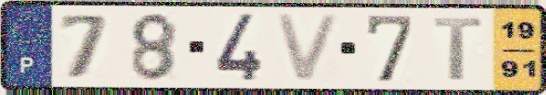4: (212, 11, 265, 84)
7: (57, 13, 113, 81), (363, 13, 415, 84)
8: (128, 11, 181, 83)
T: (431, 16, 486, 83)
V: (271, 11, 345, 84)
